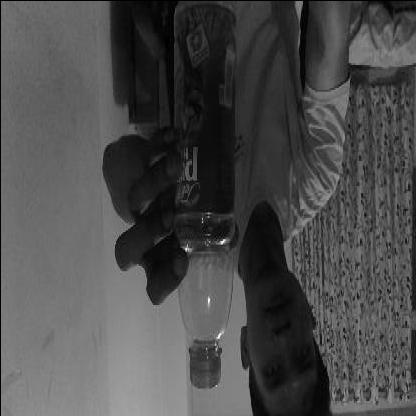plastic_bottles: (172, 4, 233, 386)
